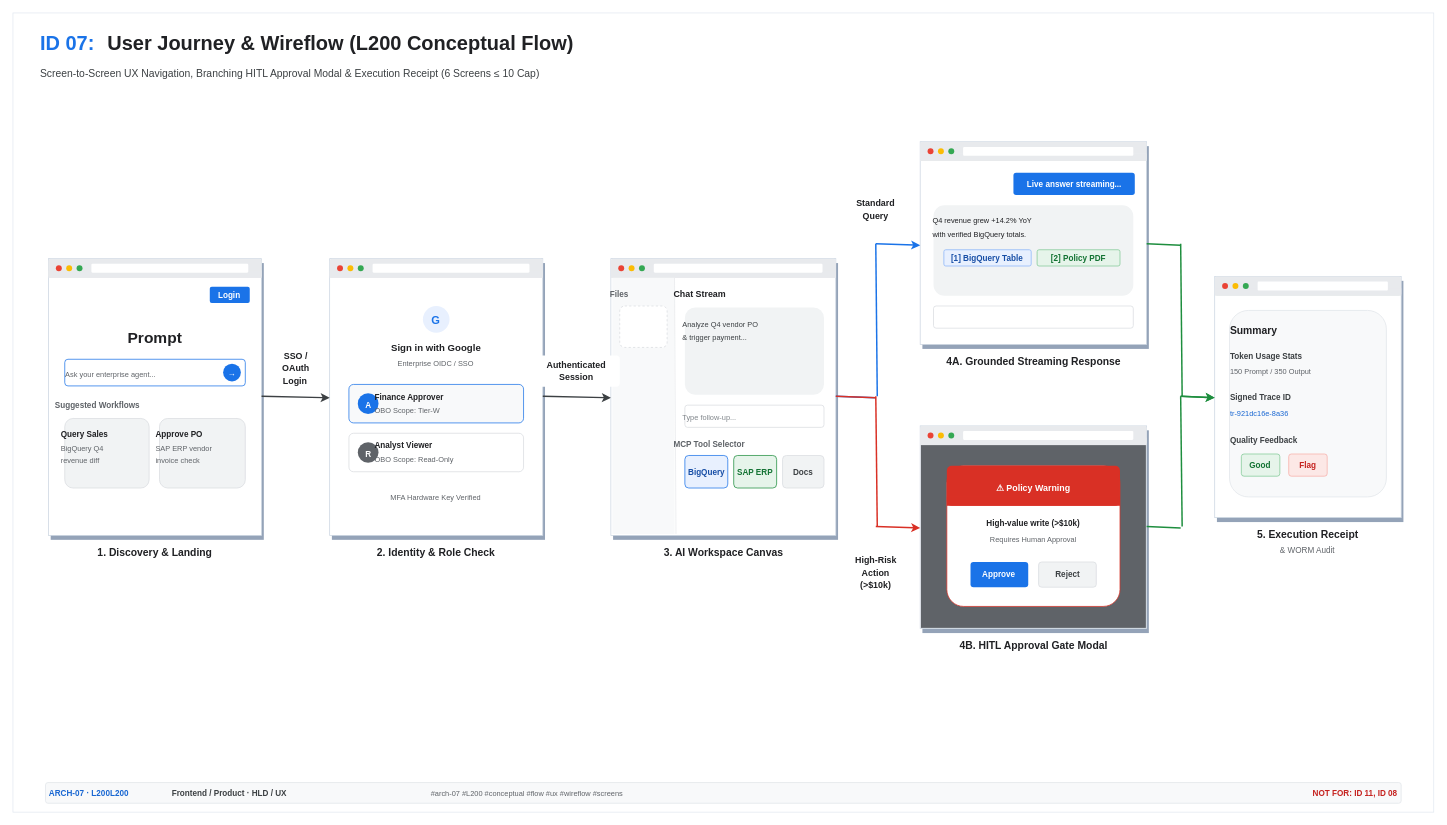
This 1447x825 diagram has some shape labels left out. Each missing label, with the box of its shape:
Ask a follow-up question...: (933, 305, 1133, 328)
Upload: (619, 305, 667, 347)
